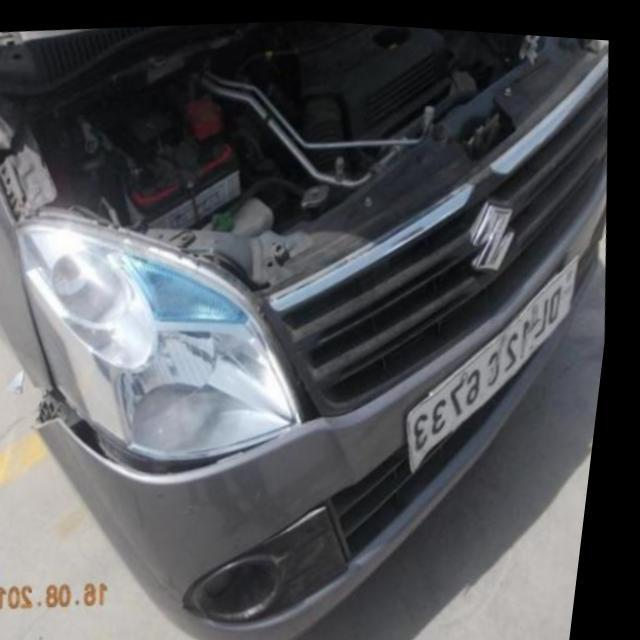dislocated part: (42, 385, 254, 473)
